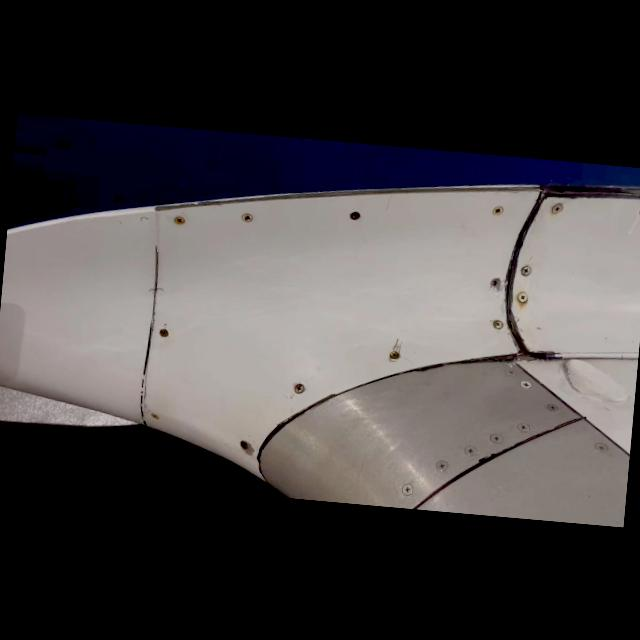Missing Fastener: (476, 269, 508, 297)
